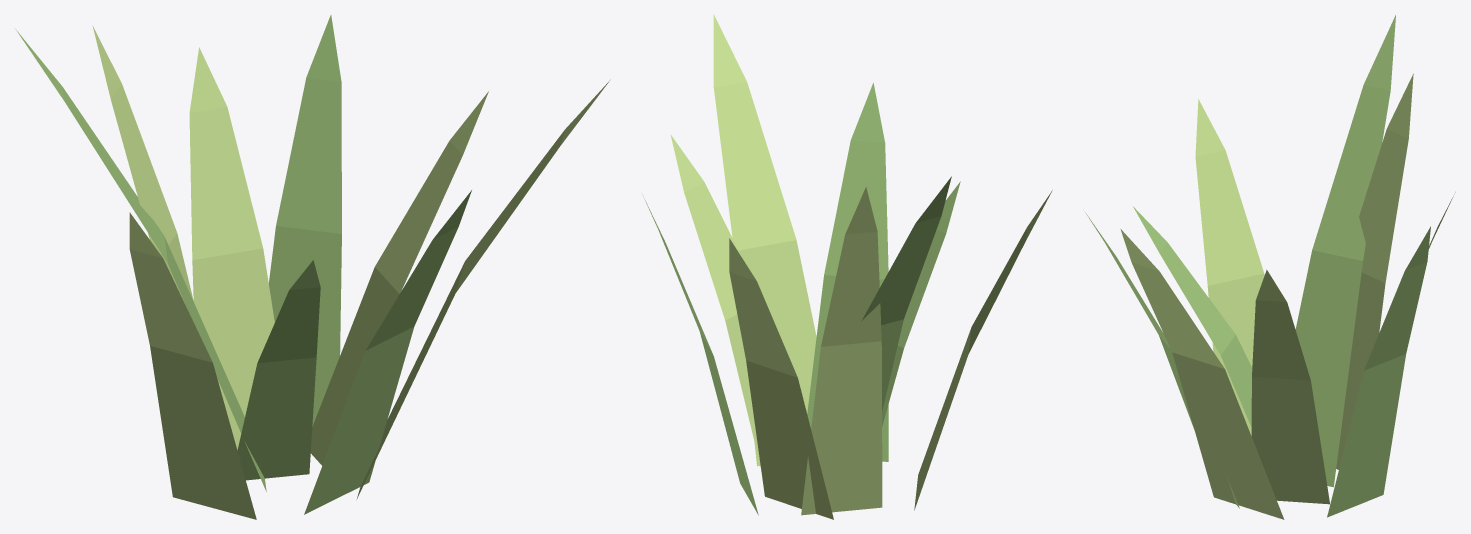
File: Decor_GrassTuft.fbx
The picture shows the model from 3 angles, left to right: view 1: azimuth 30°, elevation 25°; view 2: azimuth 150°, elevation 25°; view 3: azimuth 270°, elevation 25°; orthographic projection. The views are drawn at different scales.
Visible parts, largest first — view 1: Decor_GrassTuft; view 2: Decor_GrassTuft; view 3: Decor_GrassTuft.
Part boxes in pixels (x1,y1,x2,y2): Decor_GrassTuft: [15, 15, 610, 519]; Decor_GrassTuft: [643, 14, 1052, 519]; Decor_GrassTuft: [1085, 15, 1455, 519].
Size of the model in its own units: 0.4746 by 0.4704 by 0.4135.
